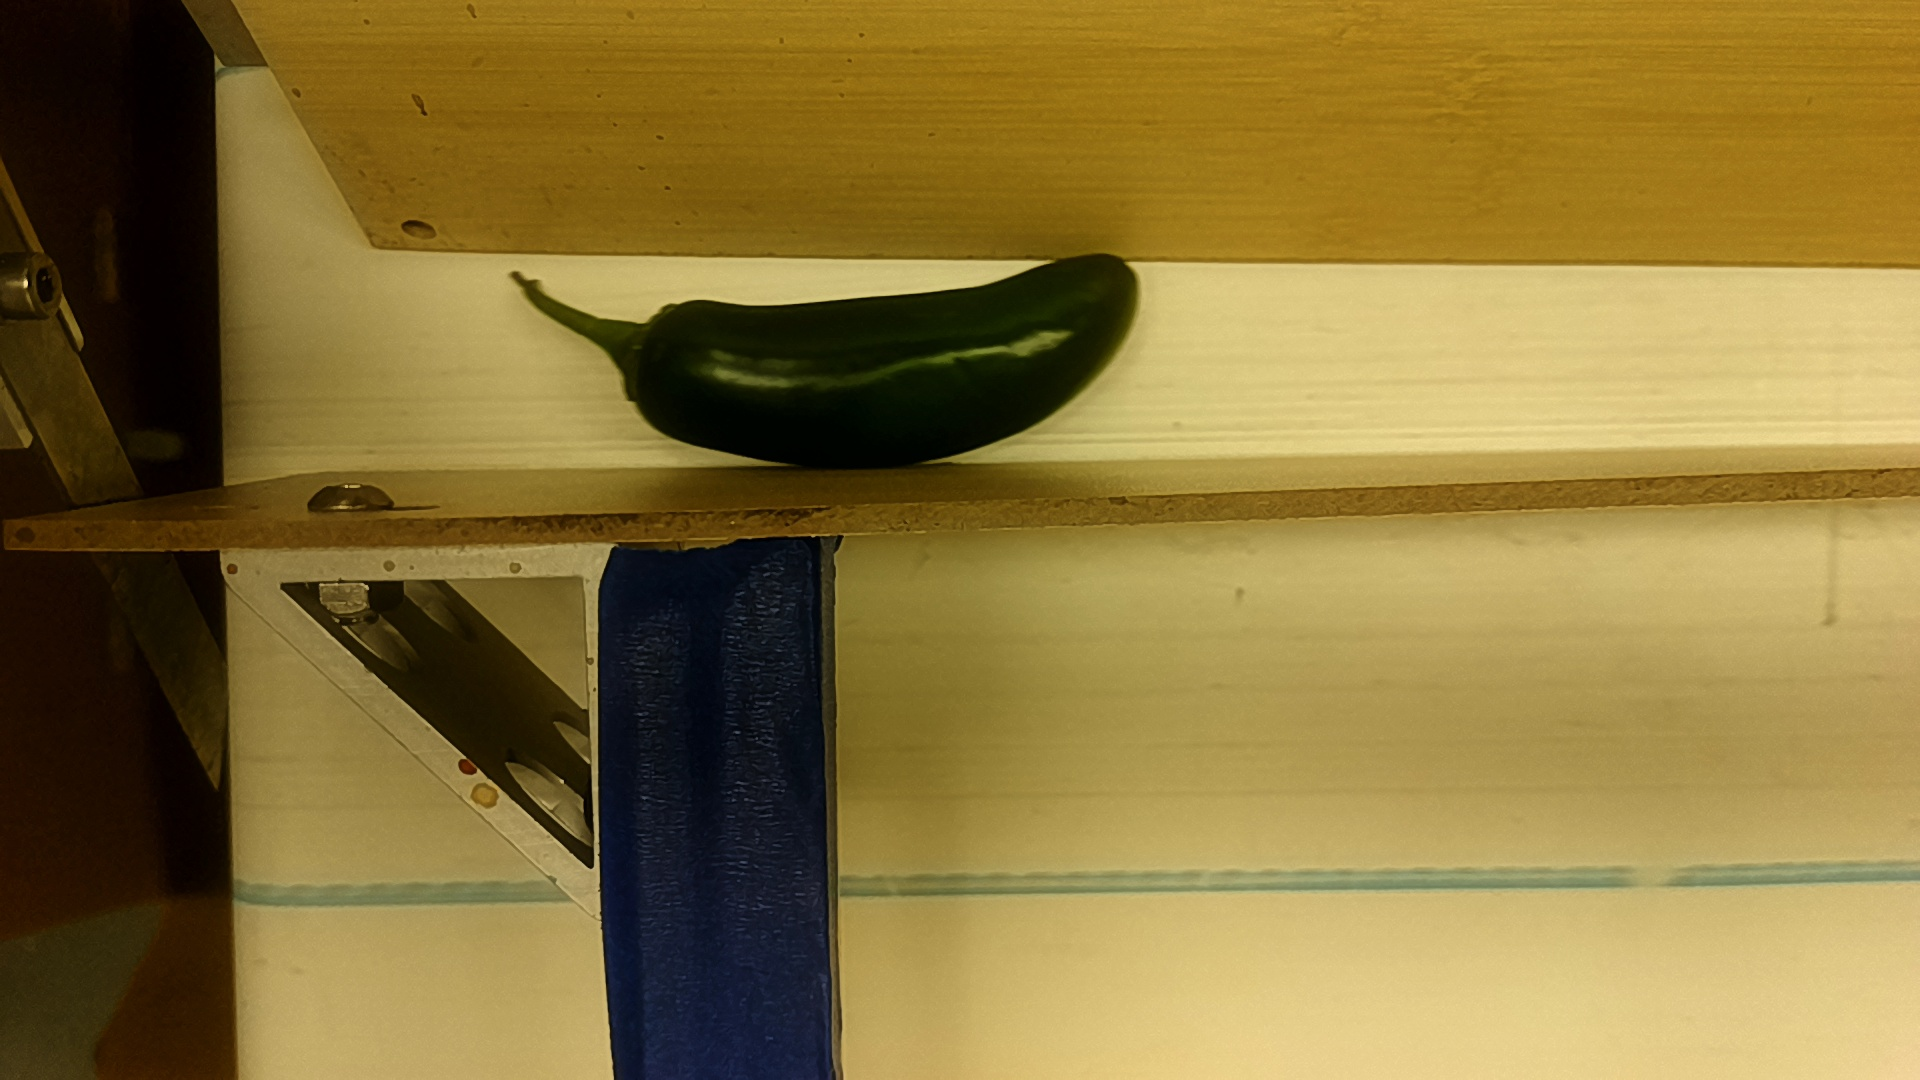Cut Point: (618, 280, 686, 448)
